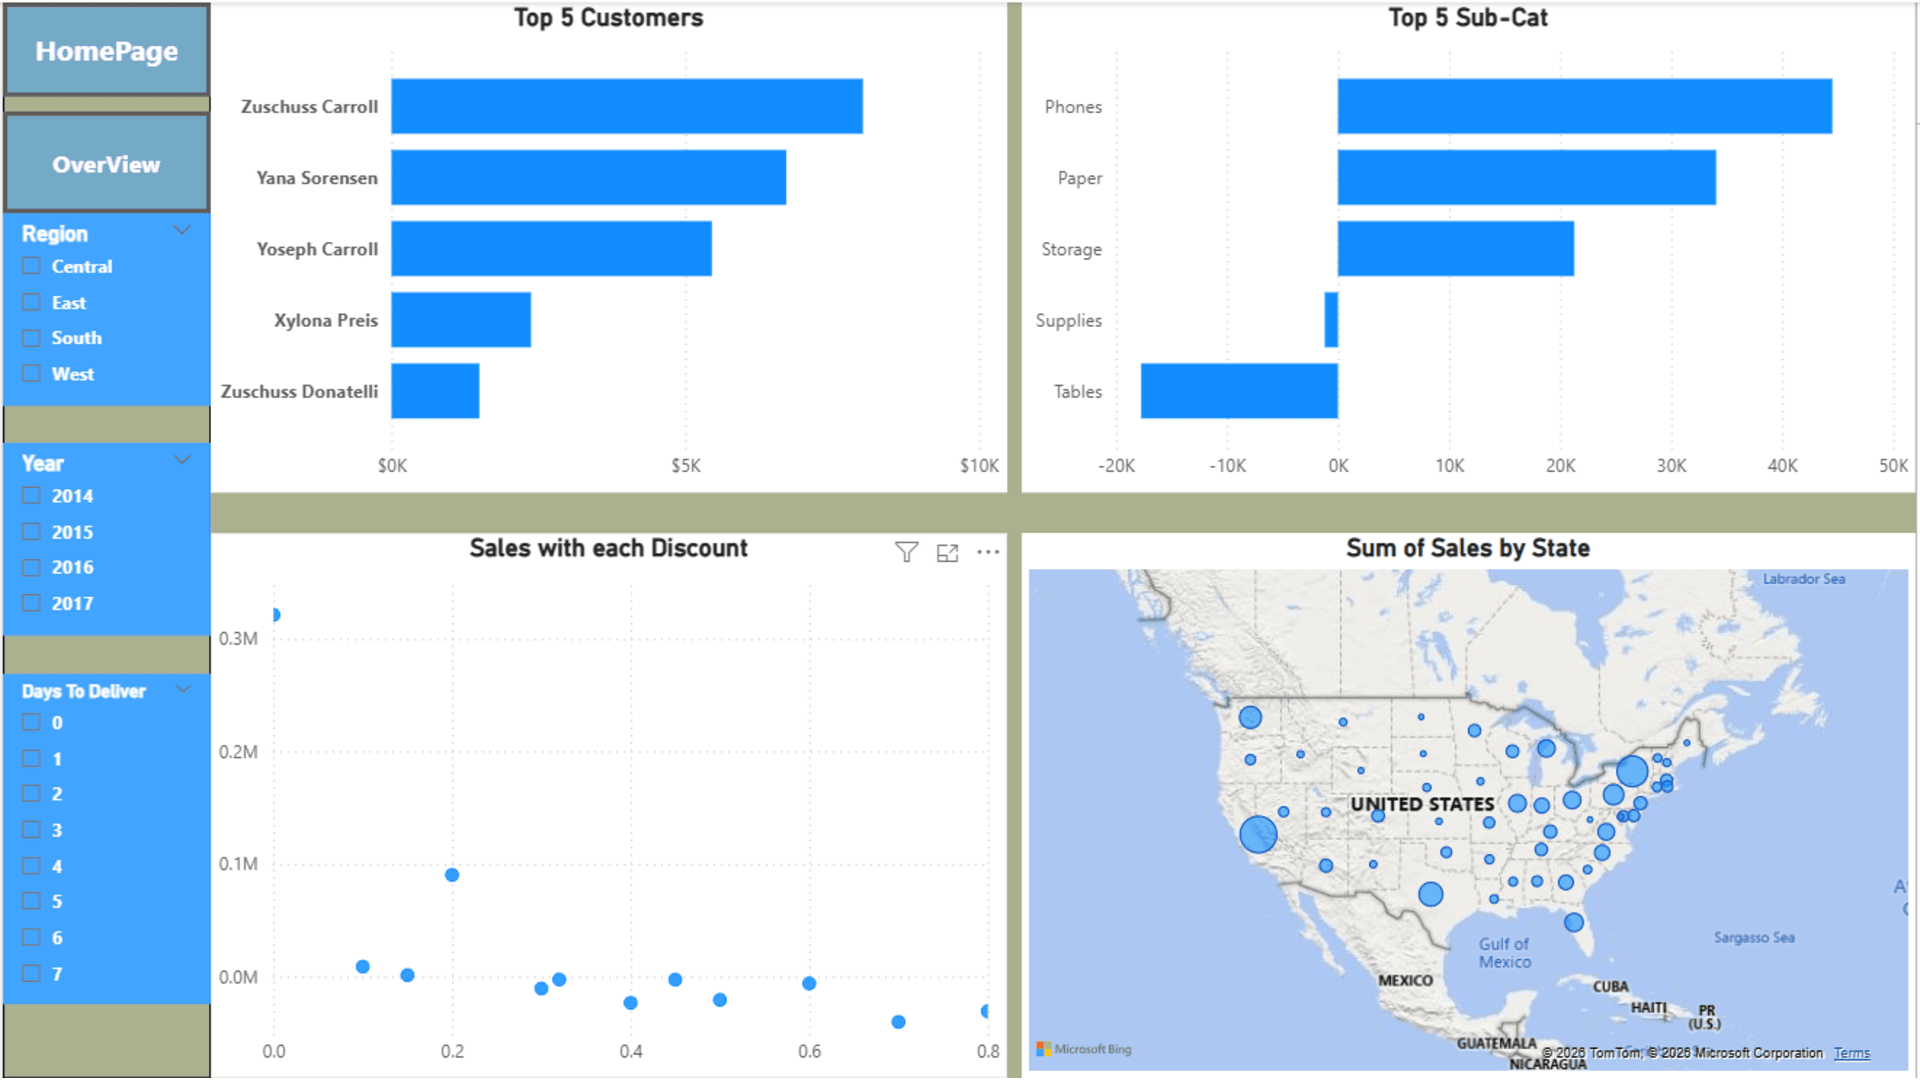

The page's visual inventory and layout, read from the dashboard file:
{"tool":"powerbi","page":{"name":"Page 2","canvas":[1280,720],"ordinal":2},"visuals":[{"type":"shape","box":[0,0,139.2,720],"z":0},{"type":"actionButton","box":[0,72.9,139.1,68.1],"z":1000},{"type":"clusteredBarChart","title":"Top 5 Customers","fields":{"Y":["Sum(Orders.Sales)"],"Category":["Orders.Customer Name"]},"box":[139.1,0,533,327.8],"z":2000},{"type":"barChart","title":"Top 5 Sub-Cat","fields":{"Category":["Orders.Sub-Category"],"Y":["Sum(Orders.Profit)"]},"box":[681.8,0,598.2,327.8],"z":3000},{"type":"scatterChart","title":"Sales with each Discount","fields":{"X":["Orders.Discount"],"Y":["Sum(Orders.Profit)"]},"box":[139.1,355,533,364.7],"z":4000},{"type":"slicer","fields":{"Values":["Orders.Region"]},"box":[0,141,139,129],"z":5000},{"type":"slicer","fields":{"Values":["Orders.Order Date.Variation.Date Hierarchy.Year"]},"box":[0,295,139,129],"z":6000},{"type":"slicer","fields":{"Values":["Orders.Days to Delivery"]},"box":[0,449,139,221],"z":7000},{"type":"map","fields":{"Category":["Orders.State"],"Size":["Sum(Orders.Sales)"]},"box":[681.8,355,598.2,364.7],"z":8000},{"type":"actionButton","box":[0,0,139.1,63.2],"z":8001}]}

Visuals, with their boxes in screenshot pixels (x1, y1, x2, y2), scaled from the page's 1280x720 canvas onto the 1920x1080 screenshot:
shape: bbox=(0, 0, 209, 1079)
actionButton: bbox=(0, 109, 209, 212)
"Top 5 Customers" clusteredBarChart: bbox=(209, 0, 1008, 492)
"Top 5 Sub-Cat" barChart: bbox=(1023, 0, 1919, 492)
"Sales with each Discount" scatterChart: bbox=(209, 532, 1008, 1079)
slicer - Orders.Region: bbox=(0, 212, 208, 405)
slicer - Orders.Order Date.Variation.Date Hierarchy.Year: bbox=(0, 442, 208, 636)
slicer - Orders.Days to Delivery: bbox=(0, 674, 208, 1005)
map - Orders.State x Sum(Orders.Sales): bbox=(1023, 532, 1919, 1079)
actionButton: bbox=(0, 0, 209, 95)
